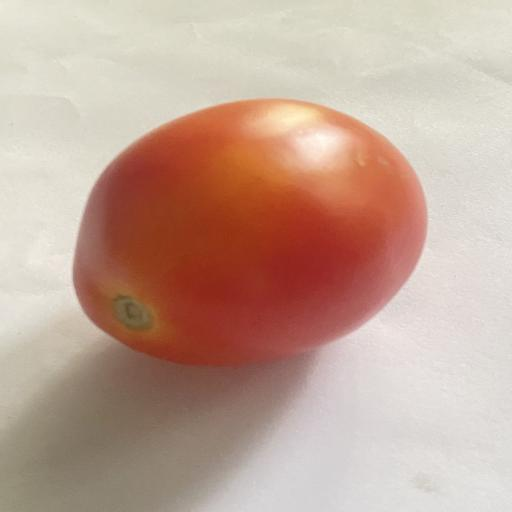ripe: (73, 99, 426, 366)
